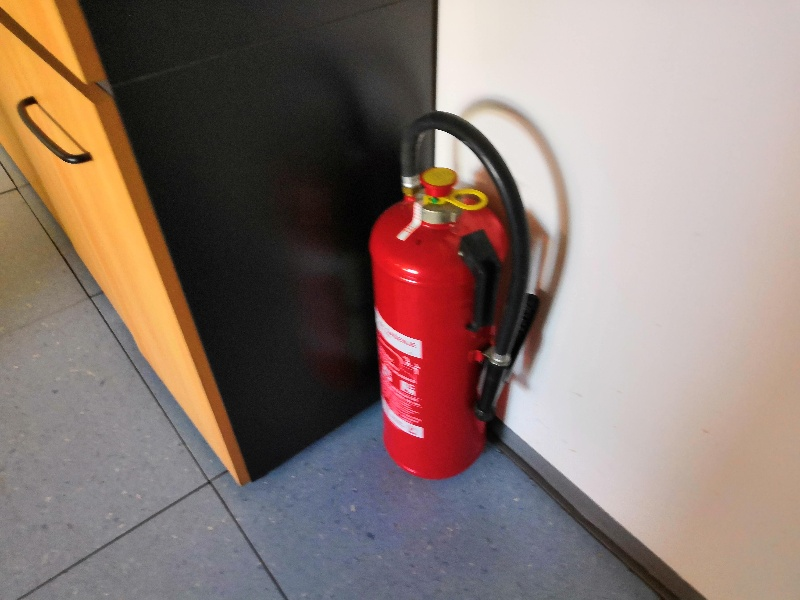vataparat: (372, 118, 538, 476)
